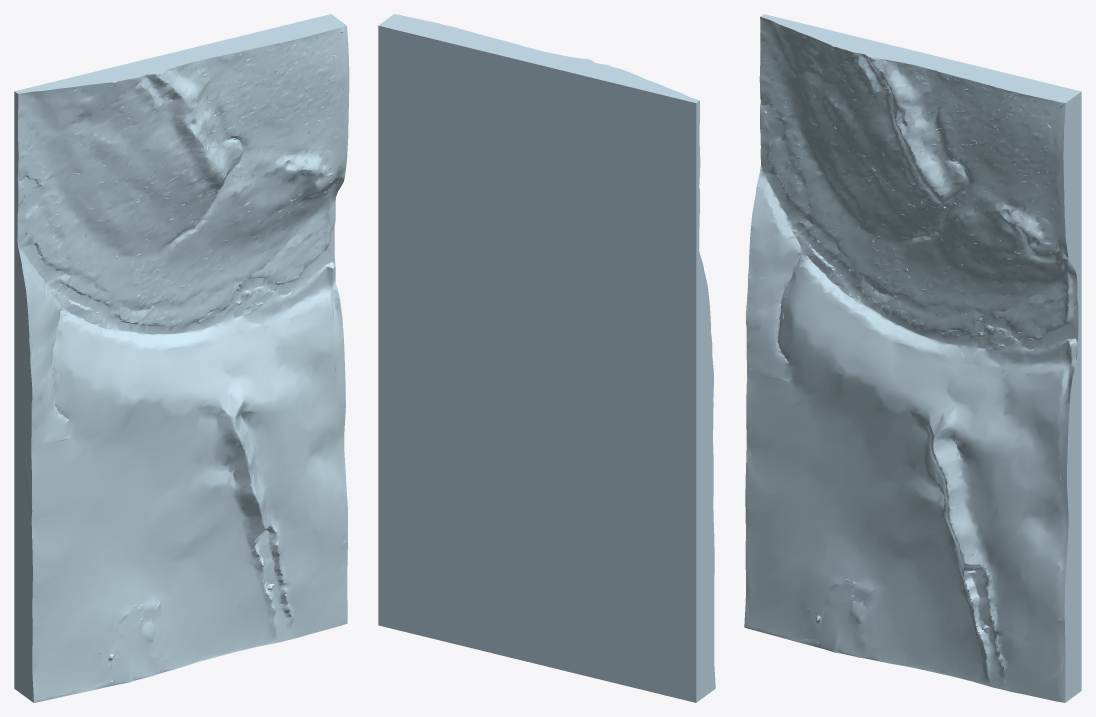
The model's file is farm_elevation_final.glb.
The picture shows the model from 3 angles, left to right: view 1: azimuth 30°, elevation 25°; view 2: azimuth 150°, elevation 25°; view 3: azimuth 330°, elevation 25°; orthographic projection.
Parts seen in each view (by area): view 1: Part 1; view 2: Part 1; view 3: Part 1.
Part boxes in pixels (box(x1,y1,x2,y2)): Part 1: box(14, 14, 349, 702); Part 1: box(378, 14, 715, 702); Part 1: box(744, 14, 1081, 702).
Size of the model in its own units: 0.8455 by 1.52 by 0.127.
